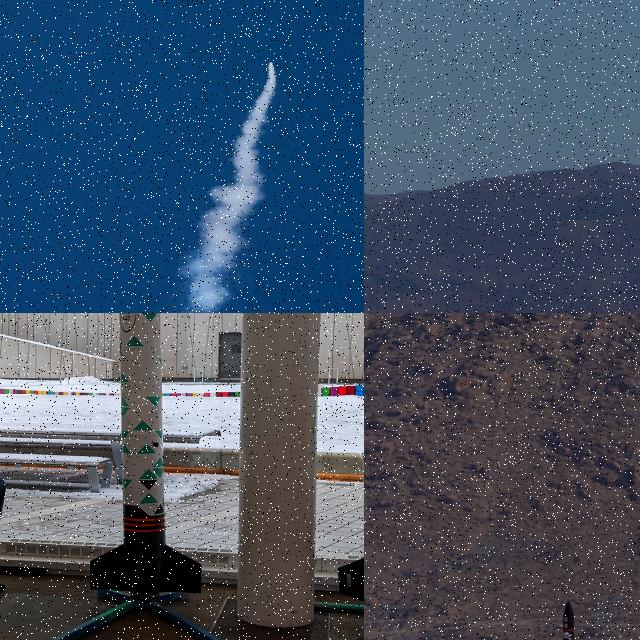Rocket: (90, 313, 202, 607), (553, 598, 592, 640), (269, 60, 273, 63)
